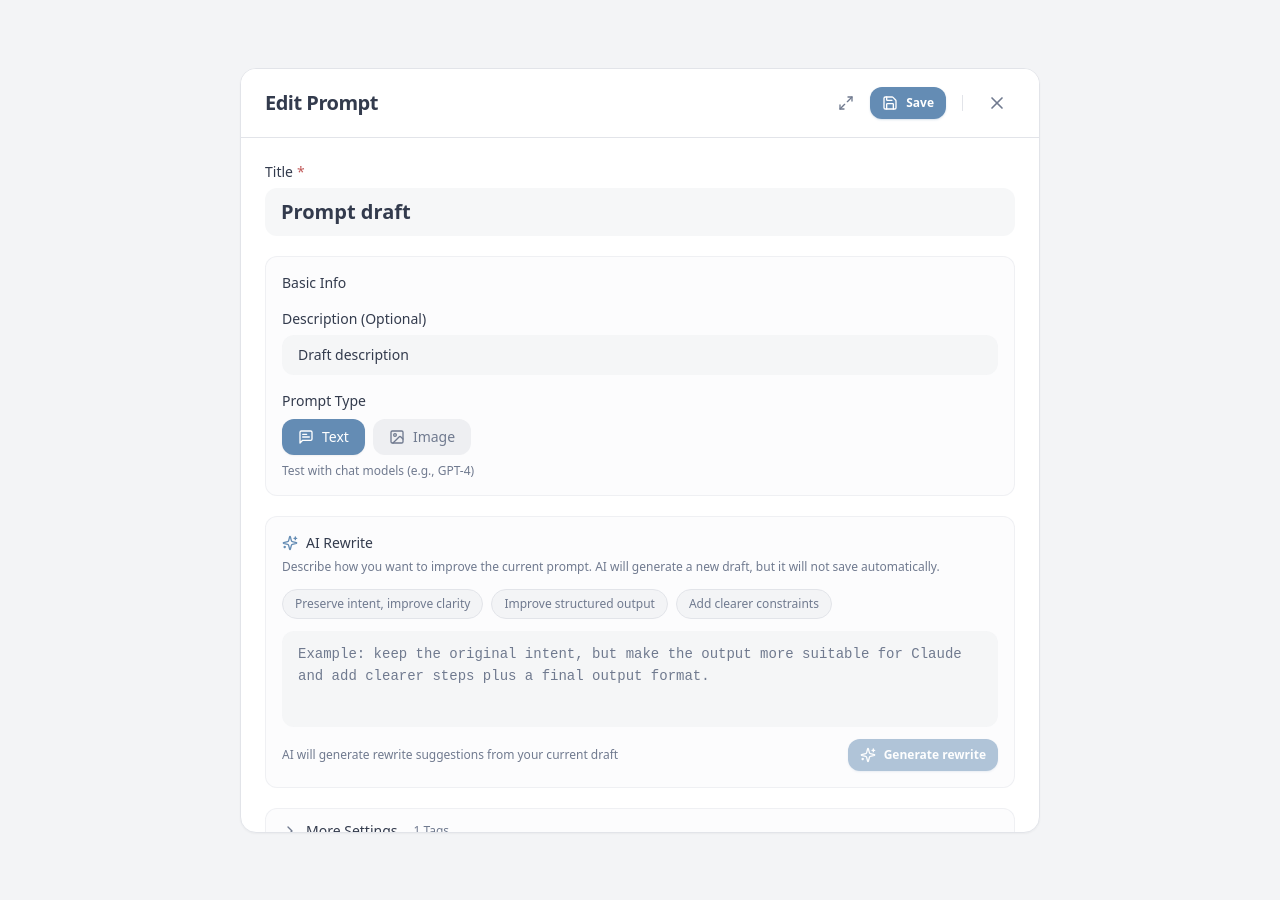
Test: Prompt modal structure › clears edit modal source suggestion blur timer when unmounted
Step 1. Click the button "More Settings 1 Tags" → click(352, 830), box [266,808,1014,852]
(page scrolled)
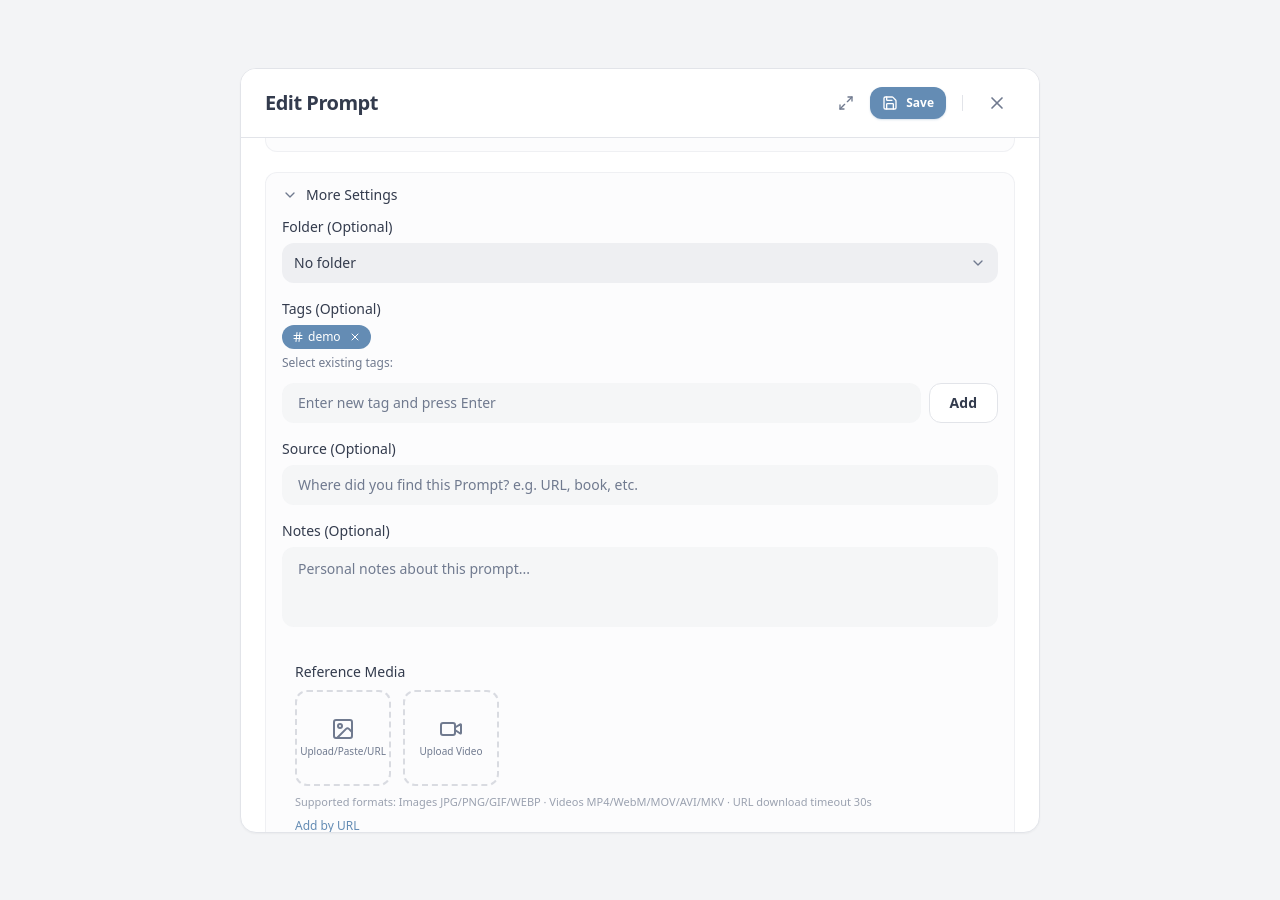
Step 2. Focus the field with placeholder "Where did you find this Prompt? e.g. URL, book, etc." → (640, 484), box [282,464,998,504]
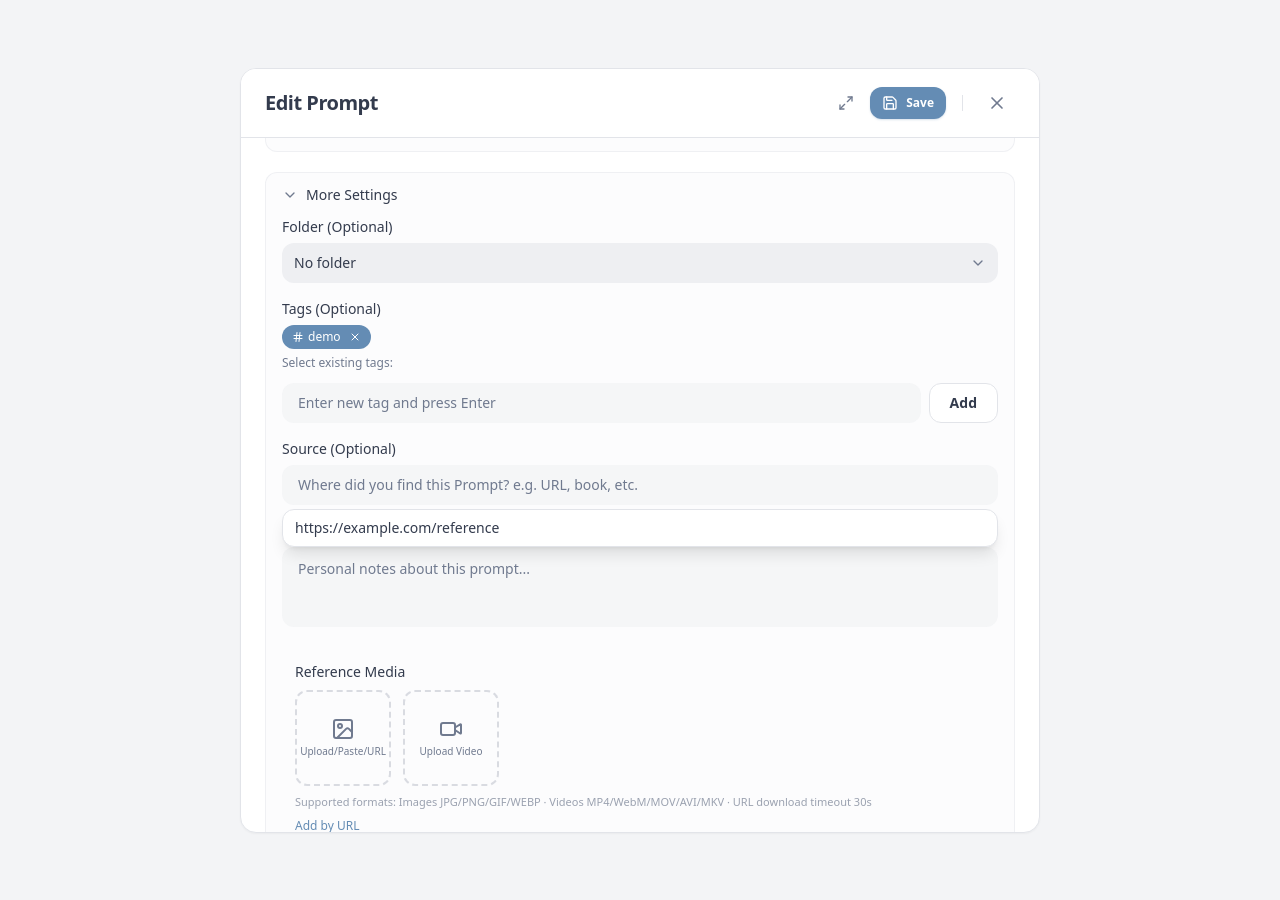
Expected: the button "https://example.com/reference" is shown, [283,510,997,546]
